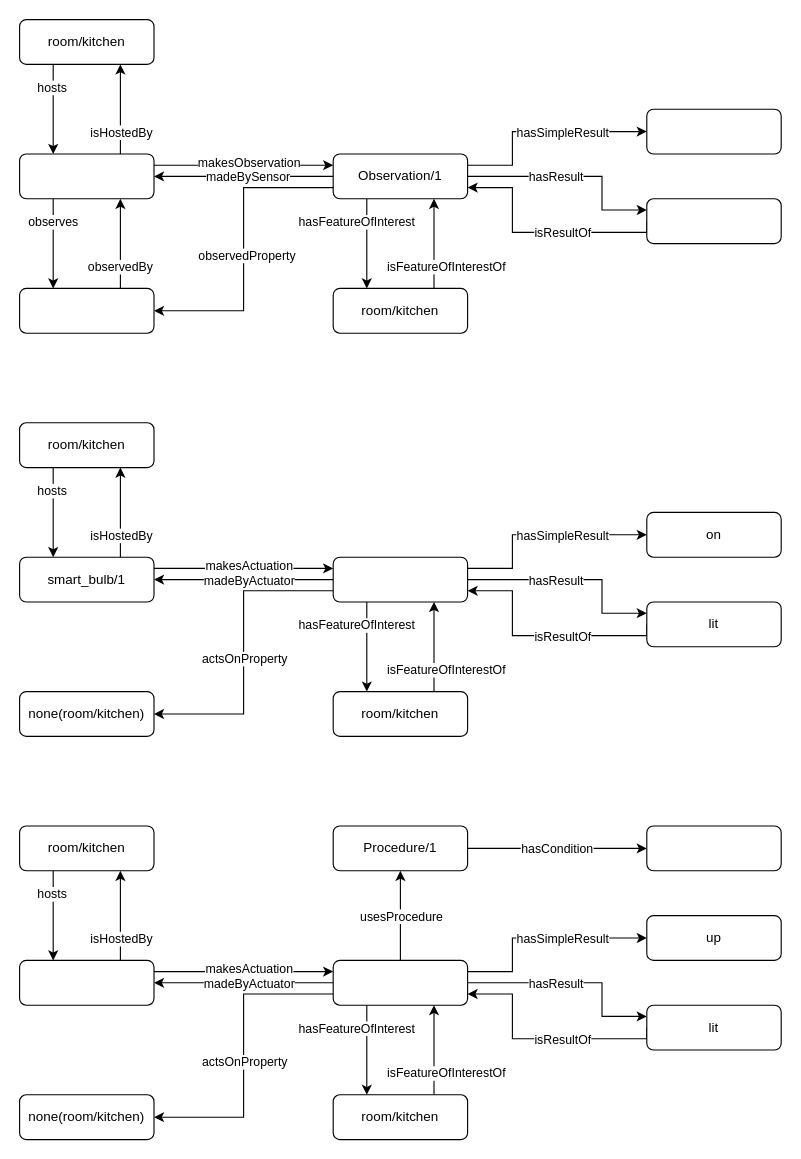
This 801x1159 diagram has some shape labels left out. The box of each missing label's shape, as (x1, y1, x2, y2) in pixels:
Actuation/1: (332, 556, 468, 602)
Actuation/2: (332, 959, 468, 1005)
blind_motor/1: (18, 959, 154, 1005)
Context = daylighted: (646, 825, 781, 871)
motion_sensor/1: (18, 153, 154, 199)
occupancy: (18, 287, 154, 333)
occupied: (646, 198, 781, 244)
true: (646, 108, 781, 154)
